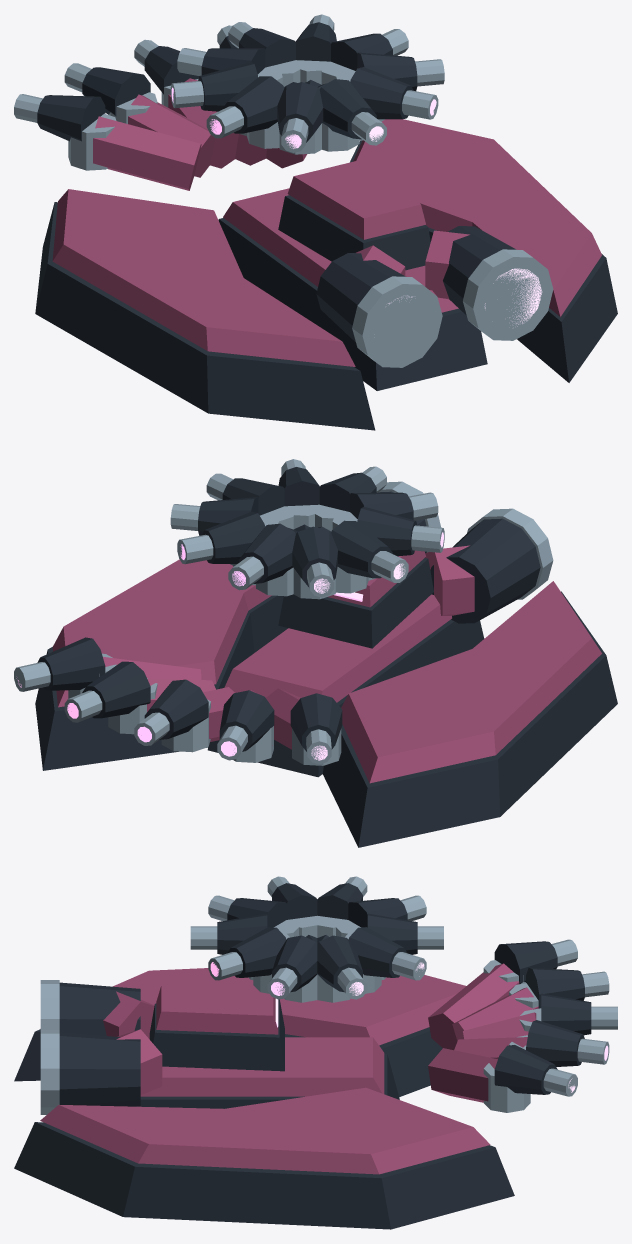
The model's file is c2_miniboss.glb.
3 renders of one model, top to bottom at view 1: azimuth 30°, elevation 25°; view 2: azimuth 150°, elevation 25°; view 3: azimuth 270°, elevation 25°, orthographic. The views are drawn at different scales.
Visible parts, largest first — view 1: miniboss / Armor, miniboss / Chassis, miniboss / Titanium, ring_rotor / Chassis, ring_rotor / Titanium, miniboss / Energy, ring_rotor / Energy; view 2: miniboss / Armor, miniboss / Chassis, ring_rotor / Chassis, ring_rotor / Titanium, miniboss / Titanium, miniboss / Energy, ring_rotor / Energy; view 3: miniboss / Armor, miniboss / Chassis, ring_rotor / Chassis, ring_rotor / Titanium, miniboss / Titanium.
Part boxes in pixels (<box>): miniboss / Armor: <box>52,78,601,366</box>; miniboss / Chassis: <box>35,36,617,430</box>; miniboss / Titanium: <box>14,25,553,367</box>; ring_rotor / Chassis: <box>198,22,417,142</box>; ring_rotor / Titanium: <box>170,14,444,154</box>; miniboss / Energy: <box>388,268,542,326</box>; ring_rotor / Energy: <box>171,87,436,148</box>; miniboss / Armor: <box>52,545,601,783</box>; miniboss / Chassis: <box>35,491,617,847</box>; ring_rotor / Chassis: <box>198,467,417,586</box>; ring_rotor / Titanium: <box>170,459,444,599</box>; miniboss / Titanium: <box>14,481,553,765</box>; miniboss / Energy: <box>16,592,363,760</box>; ring_rotor / Energy: <box>180,532,443,593</box>; miniboss / Armor: <box>40,963,538,1174</box>; miniboss / Chassis: <box>14,941,591,1229</box>; ring_rotor / Chassis: <box>217,883,417,992</box>; ring_rotor / Titanium: <box>190,876,443,1002</box>; miniboss / Titanium: <box>40,939,617,1114</box>.
Size of the model in its own units: 1.68 by 0.785 by 2.05.
